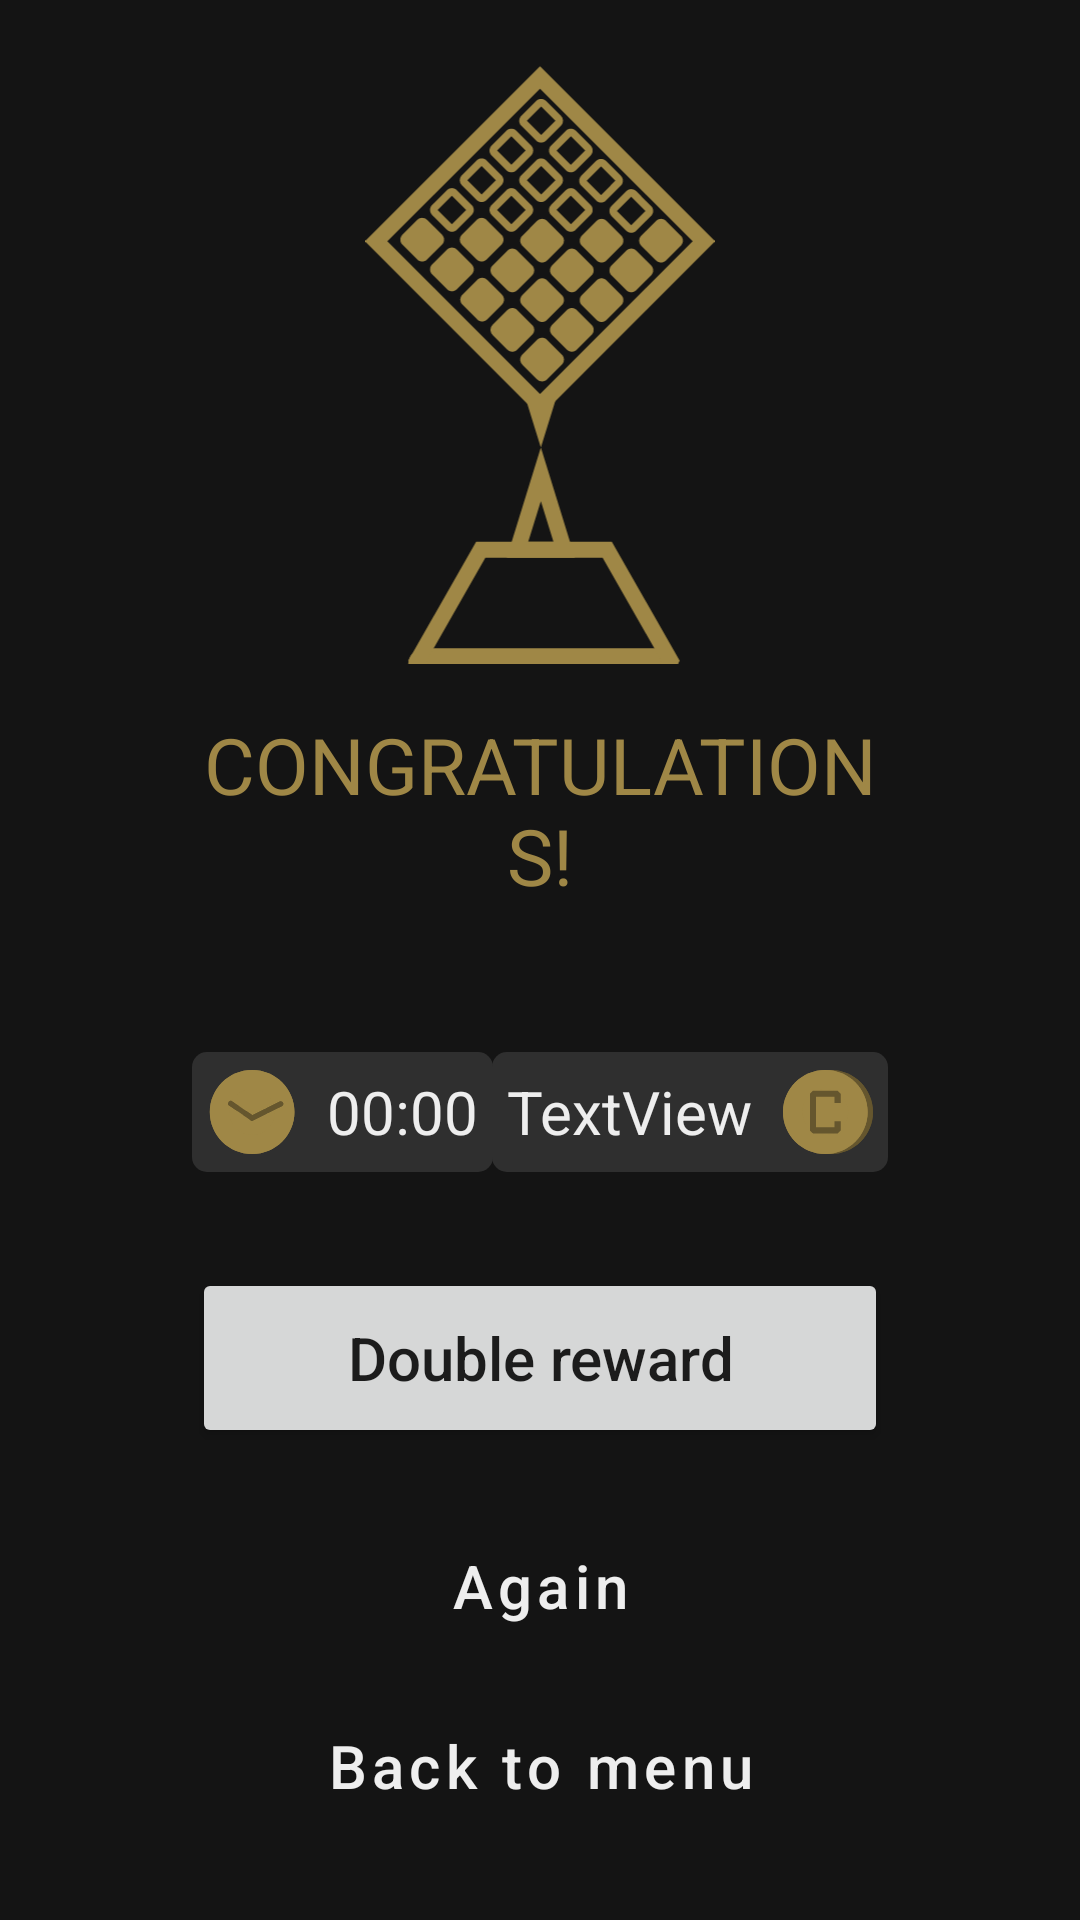

Locate icon controls on the screen. Image size 1080px×1920px, boxes as box=[x1, y1, x2, y2].
coin: box=[783, 1070, 873, 1154]
